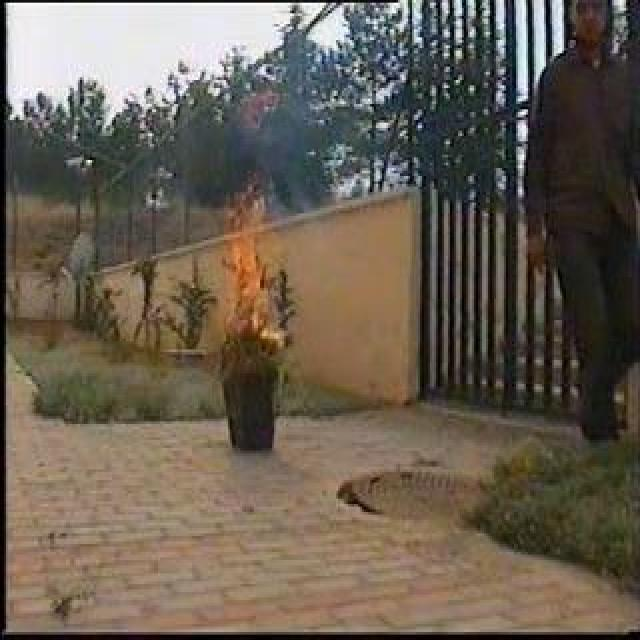fire: (214, 193, 284, 356)
smoke: (273, 76, 317, 183)
